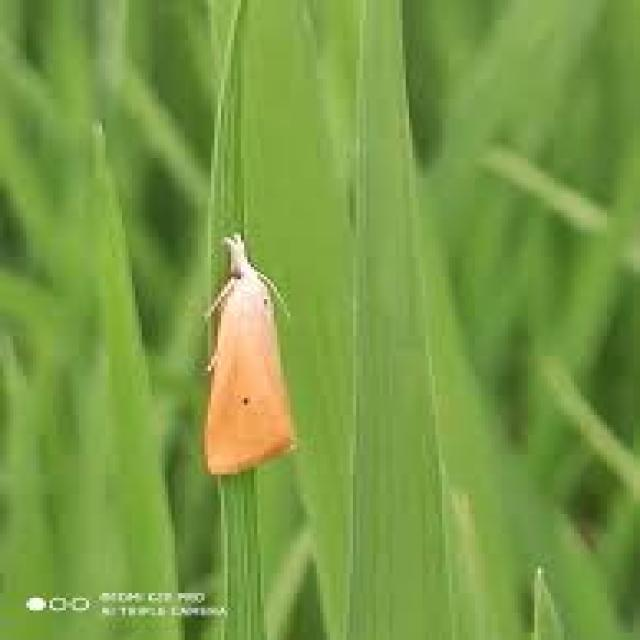yellow-stem-borer: (179, 220, 323, 484)
